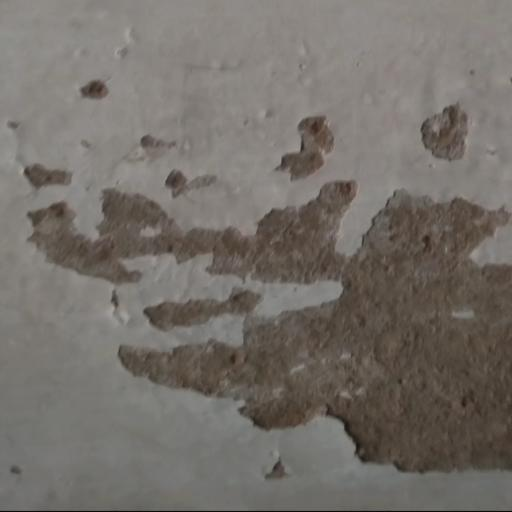peeling: (11, 70, 512, 491)
